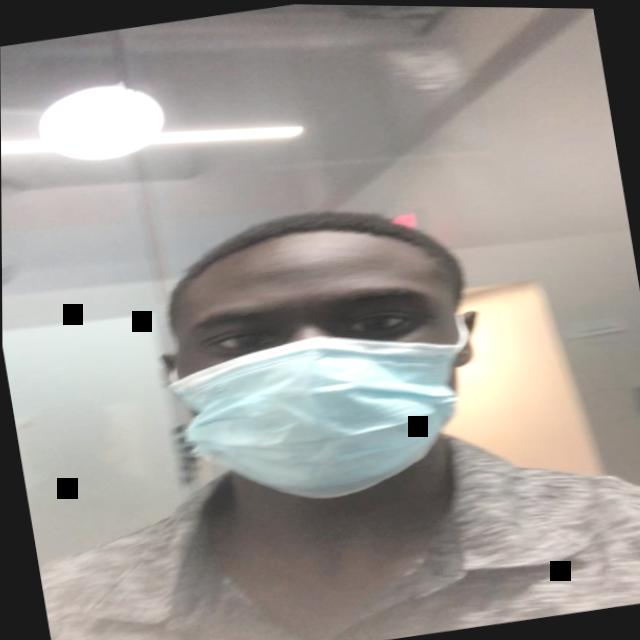Mask: (142, 193, 499, 522)
